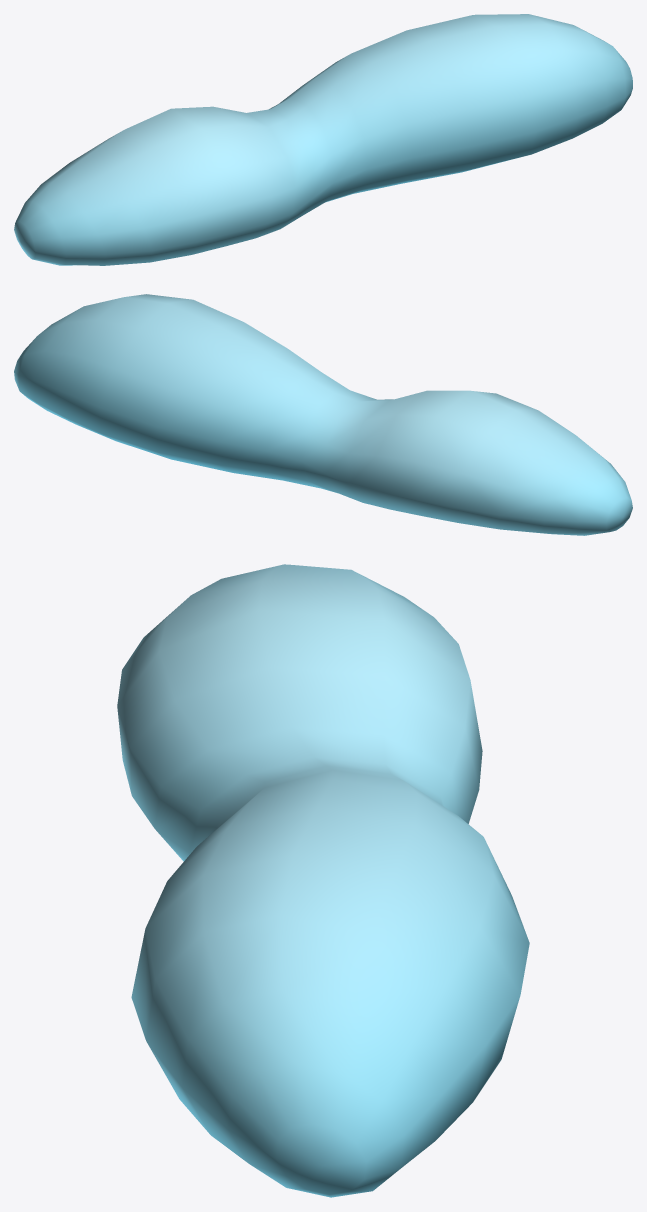
File: Cloud_Large.fbx
The picture shows the model from 3 angles, top to bottom: view 1: azimuth 30°, elevation 25°; view 2: azimuth 150°, elevation 25°; view 3: azimuth 270°, elevation 25°; orthographic projection. The views are drawn at different scales.
Visible parts, largest first — view 1: Cloud_Large; view 2: Cloud_Large; view 3: Cloud_Large.
Part boxes in pixels (x1,y1,x2,y2): Cloud_Large: (14, 14, 632, 265); Cloud_Large: (14, 294, 632, 535); Cloud_Large: (117, 564, 529, 1197).
Bounding box in the file's own units: 2344 × 500 × 704.
